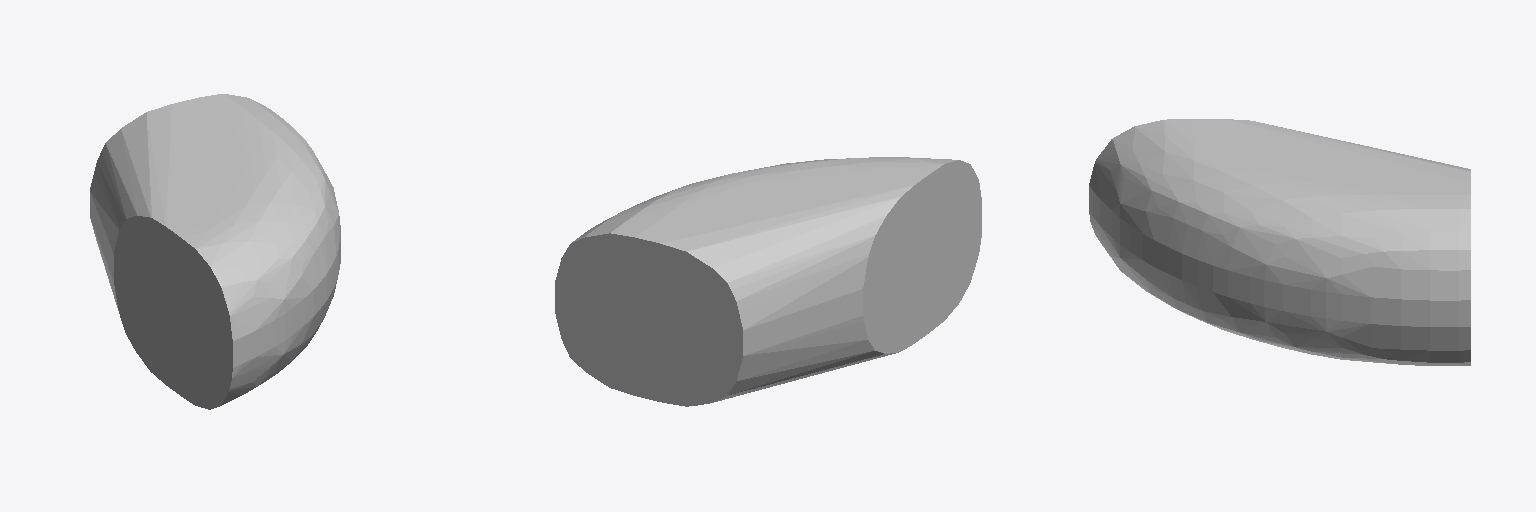
The model's file is wagon_V2_top-handle-original v1_collision_6.obj.
3 views of the same model, side by side, from view 1: azimuth 30°, elevation 25°; view 2: azimuth 150°, elevation 25°; view 3: azimuth 270°, elevation 25° (orthographic).
Size of the model in its own units: 3.85 by 2.45 by 5.36.